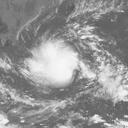cyclone: (18, 39, 82, 88)
